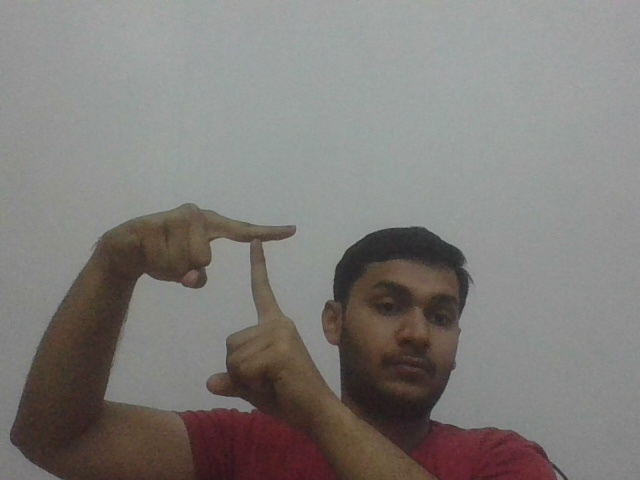T: (216, 205, 306, 319)
